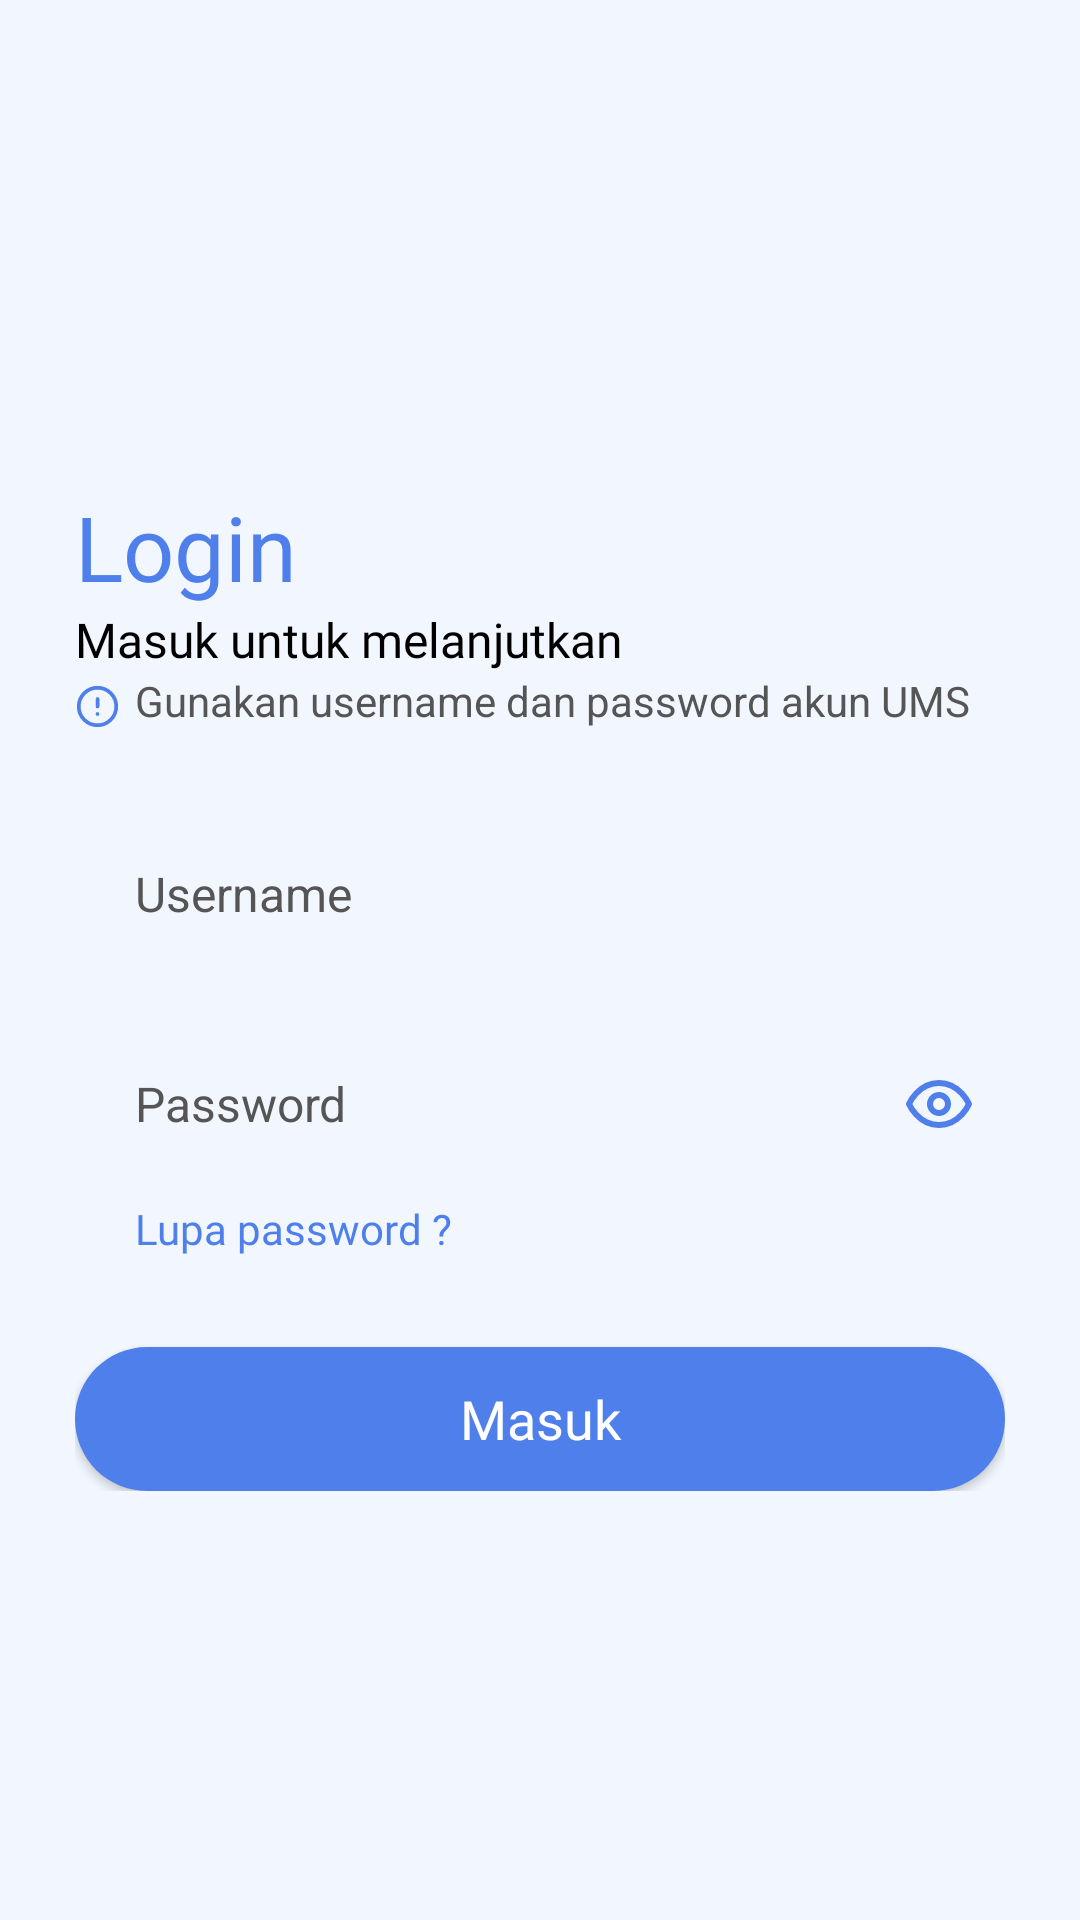

Point at icon controls on the screen. Image size 1080x1920, points as (x,y).
alert circle: (97,706)
eye: (939,1104)
